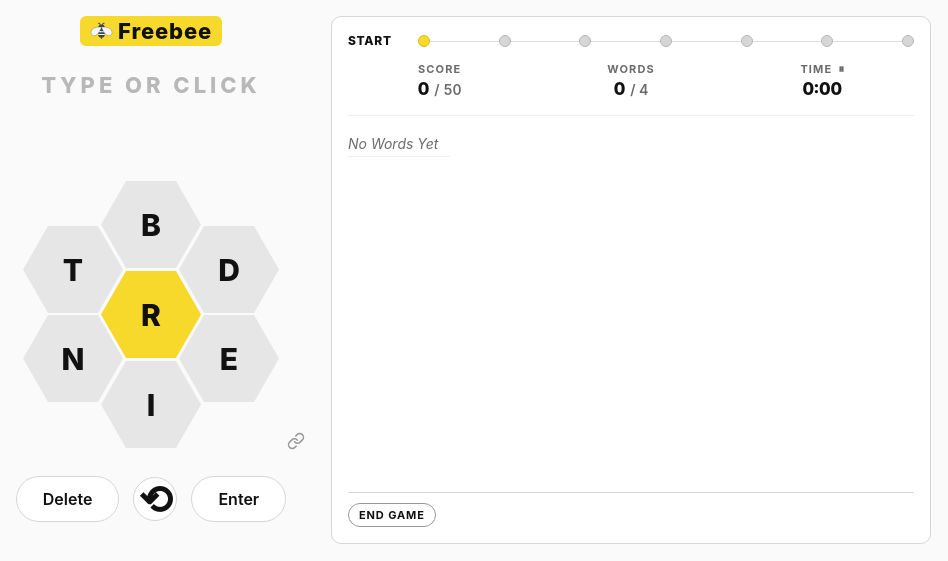
Test: Game interactions › toggles Pause to Resume and back
Click the button named "Pause" at {"x": 841, "y": 69}, box [838,63,844,75]
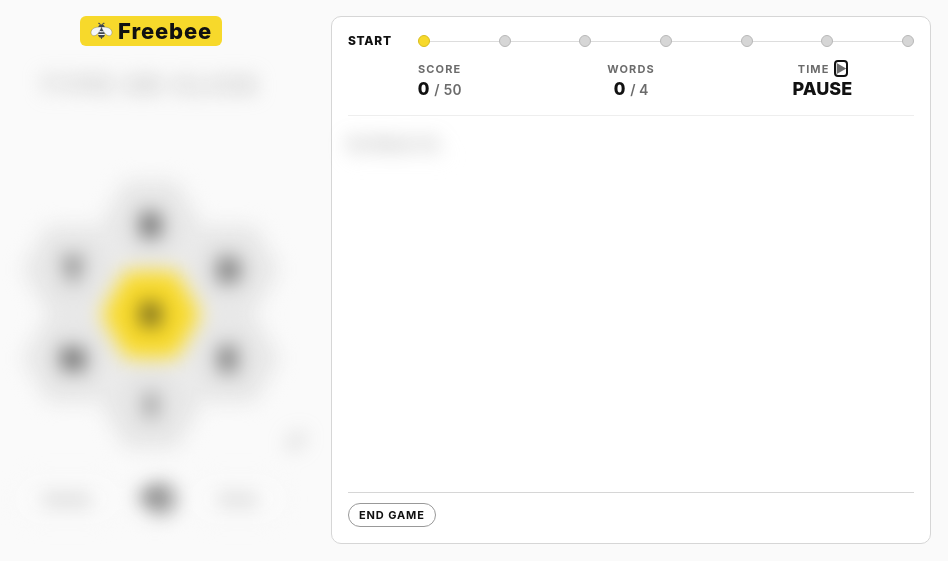
Now the button named "Resume" reads "▶"
Click the button named "Resume" at {"x": 841, "y": 69}, box [836,63,847,75]
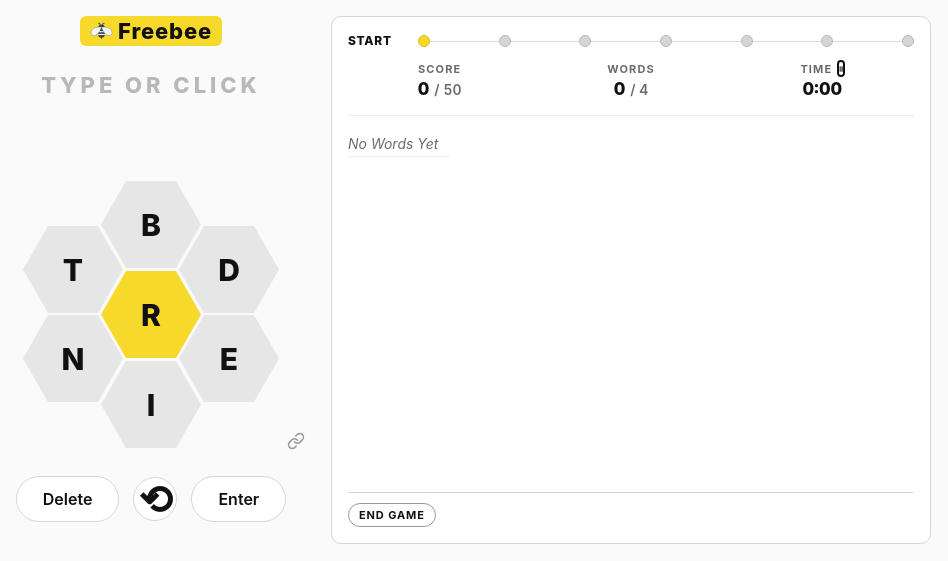
Now the button named "Pause" reads "⏸", box [838,63,844,75]
